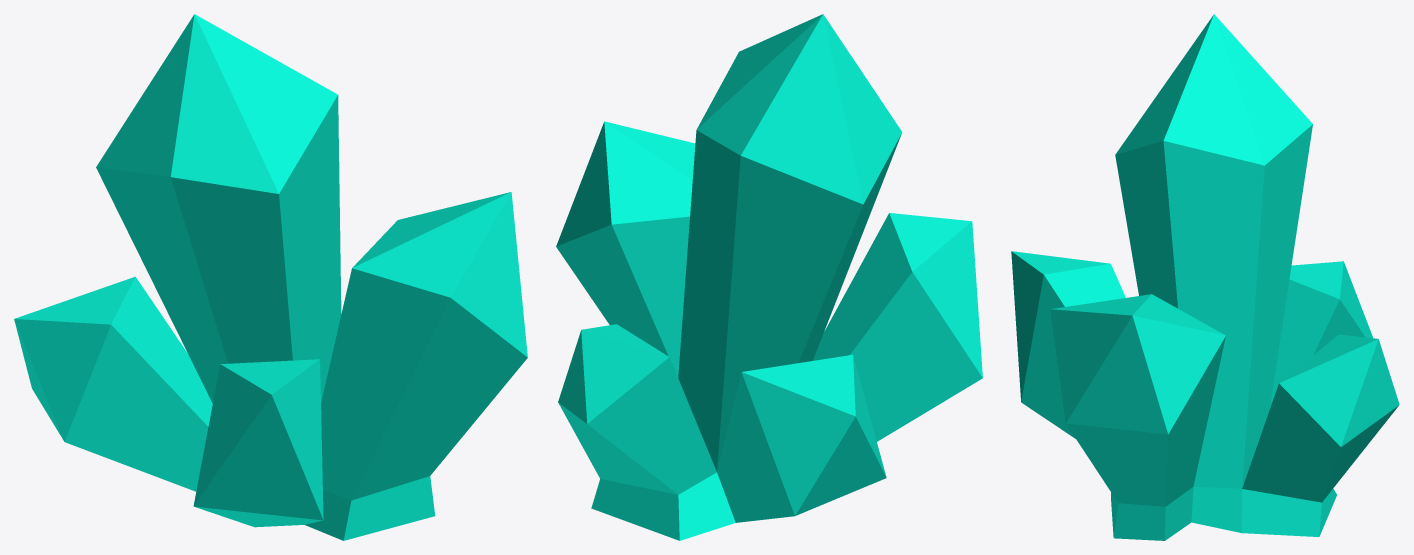
The model's file is Crystal-C05.fbx.
3 renders of one model, left to right at view 1: azimuth 30°, elevation 25°; view 2: azimuth 150°, elevation 25°; view 3: azimuth 270°, elevation 25°, orthographic. The views are drawn at different scales.
Parts seen in each view (by area): view 1: Crystal-C05; view 2: Crystal-C05; view 3: Crystal-C05.
Part boxes in pixels (box(x1,y1,x2,y2)): Crystal-C05: box(14, 14, 527, 540); Crystal-C05: box(556, 14, 982, 540); Crystal-C05: box(1011, 14, 1399, 540).
Bounding box in the file's own units: 99.28 × 119 × 93.14.
